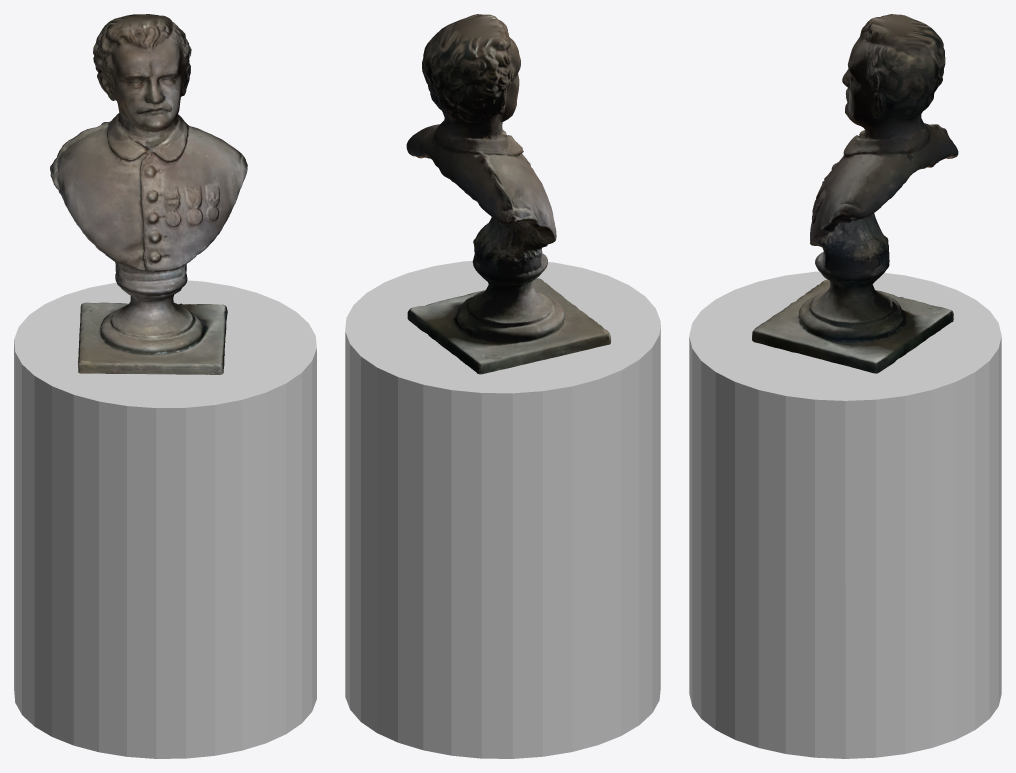
Rendered from pasquale3d.glb.
3 renders of one model, left to right at view 1: azimuth 30°, elevation 25°; view 2: azimuth 150°, elevation 25°; view 3: azimuth 270°, elevation 25°, orthographic. The views are drawn at different scales.
Parts seen in each view (by area): view 1: model; view 2: model; view 3: model.
Boxes of the visible parts, bbox=[...] form: model: bbox=[14, 14, 316, 758]; model: bbox=[345, 14, 660, 758]; model: bbox=[689, 14, 1001, 758].
Size of the model in its own units: 0.62 by 1.49 by 0.6276.
Materials: 1 (1 with a texture image).
